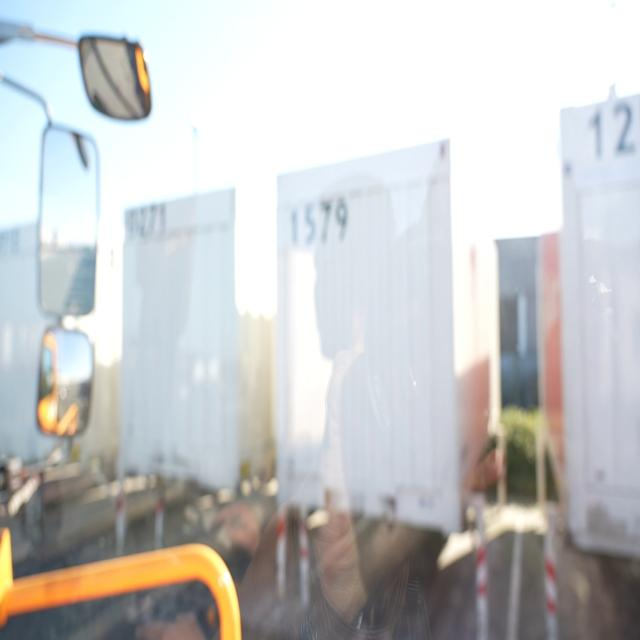Code: (285, 194, 353, 248)
